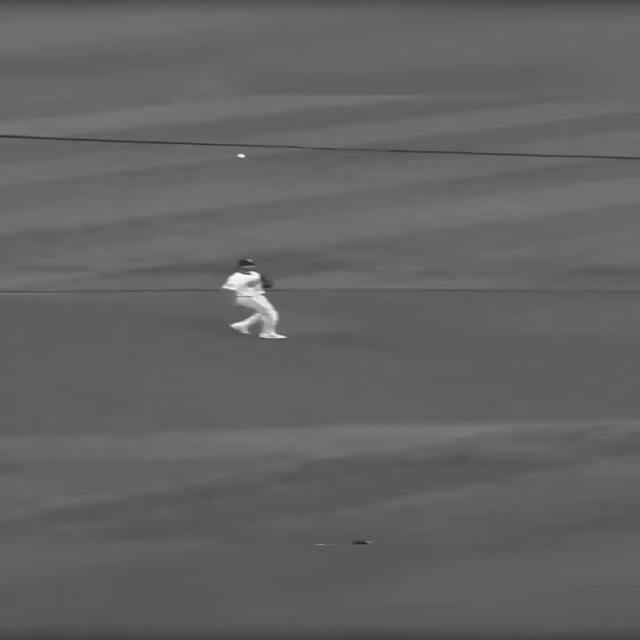baseball: (236, 153, 246, 158)
baseball_glove: (261, 278, 273, 288)
shoe: (228, 322, 250, 334), (257, 332, 287, 338)
